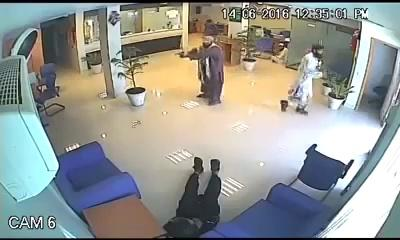weapon: (171, 49, 185, 58)
